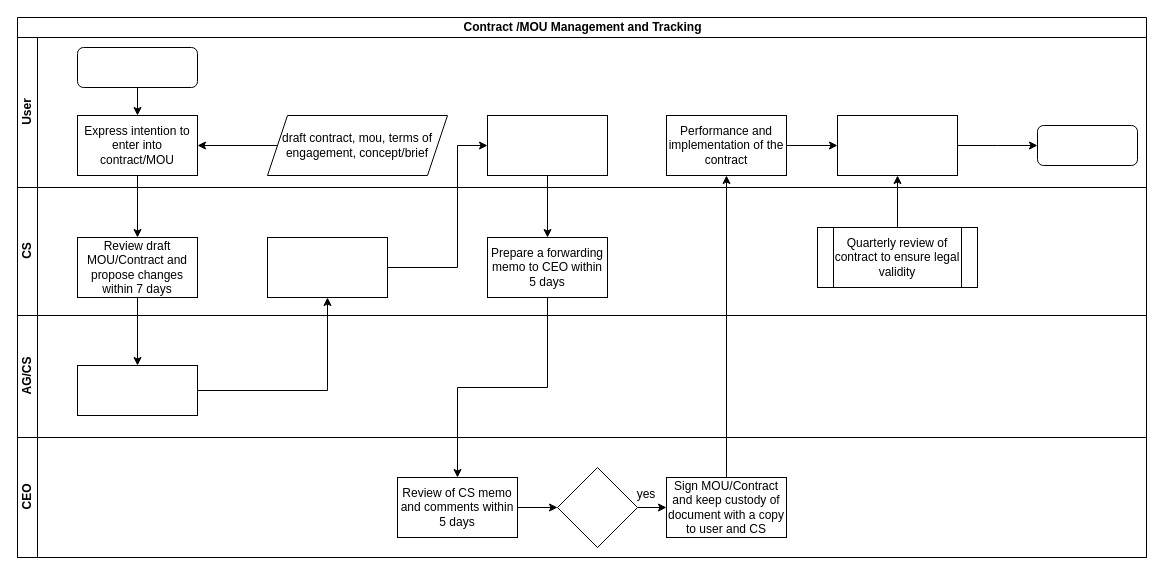
Some shapes in this 1164 by 575 pixel diagram are drawn without their labels. Each missing label, with the centre of its shape:
AG comments are incorporated within 5days: pixel 327 267
Approved?: pixel 597 507
Attorney General reviews and comments: pixel 137 390
End: pixel 1087 145
Quarterly review of contract to ensure proper implemetation: pixel 897 145
Review changes withing 7 days: pixel 547 145
Start: pixel 137 67
